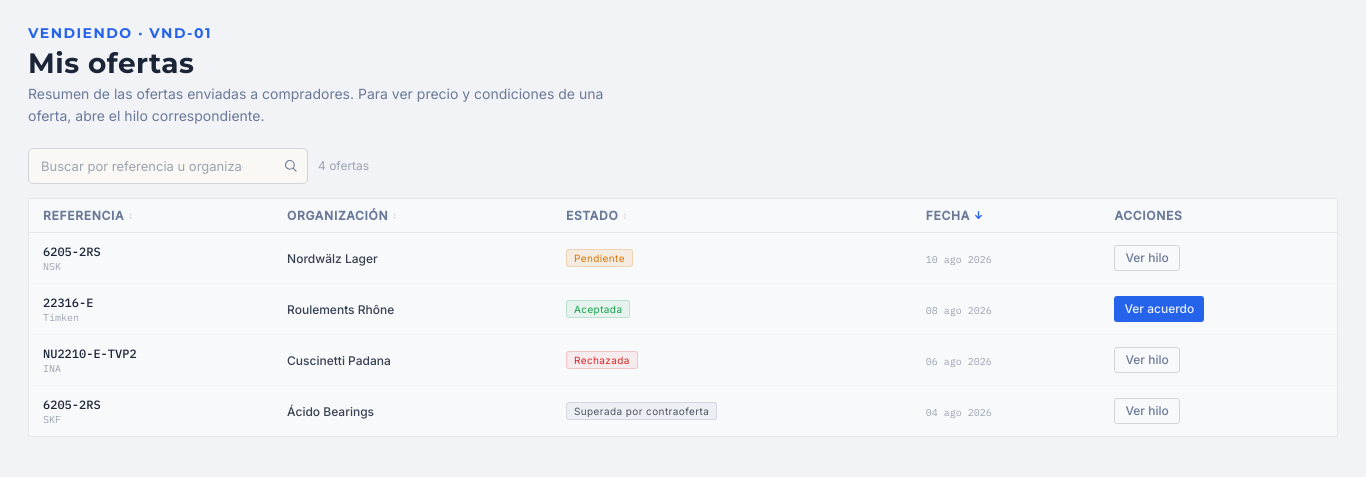
Scenario: los dos estados vacíos · §5.5 › ⚠ con búsqueda sin resultados dice OTRA cosa, no la misma
Check: the number of rows with test id "sent-offer-row" is 4, box x1=29 y1=232 x2=1337 y2=283; x1=29 y1=283 x2=1337 y2=334; x1=29 y1=334 x2=1337 y2=385; x1=29 y1=385 x2=1337 y2=436
Type "zzzz-no-existe" into the search field with placeholder "Buscar por referencia u organización…" at x=168, y=166, box x1=28 y1=148 x2=308 y2=184
Then press Enter
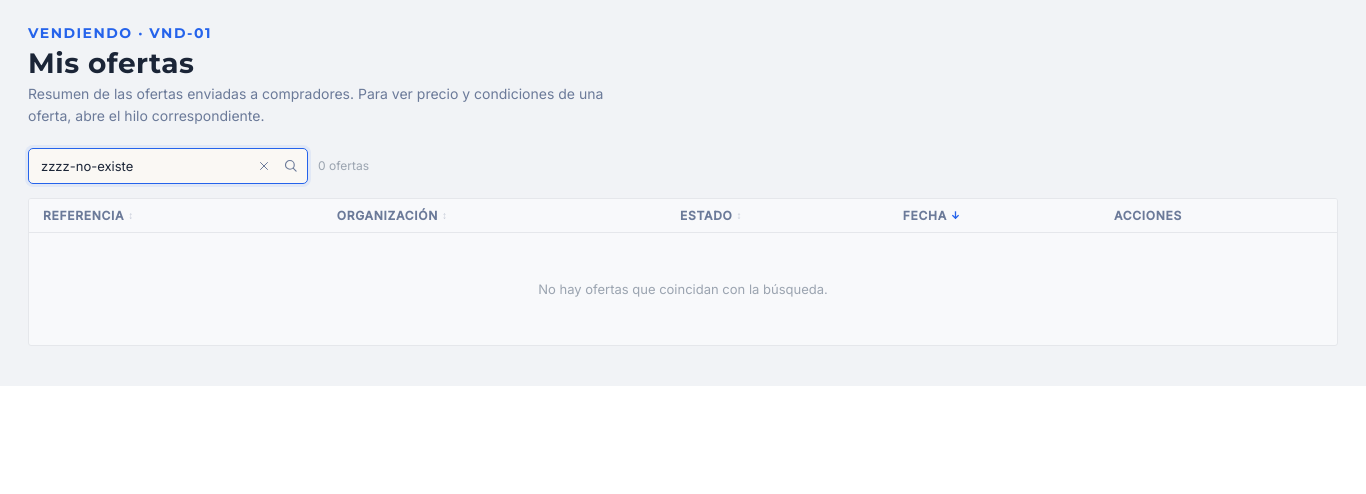
Check: the text "No hay ofertas que coincidan con la búsqueda." is shown, box x1=29 y1=232 x2=1337 y2=345
